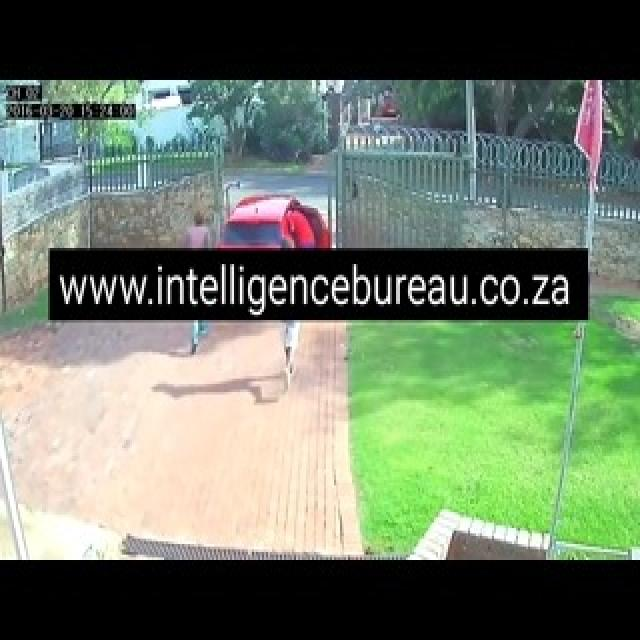thief: (192, 206, 230, 248), (274, 219, 319, 250)
